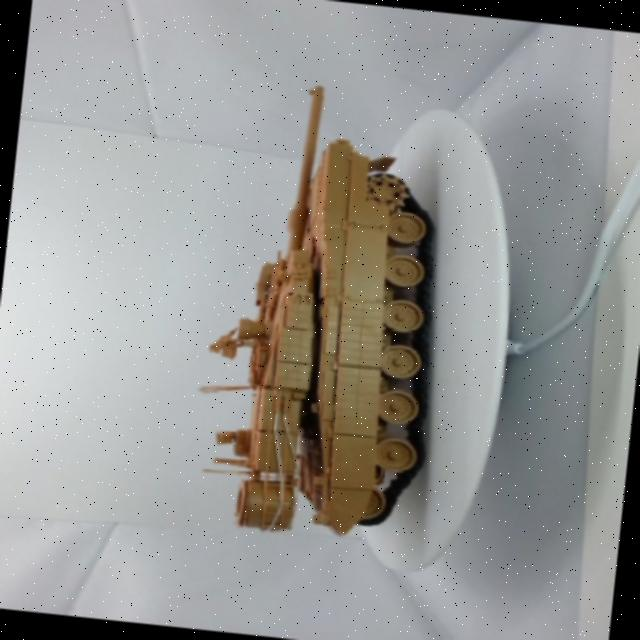korea tank: (168, 59, 478, 556)
